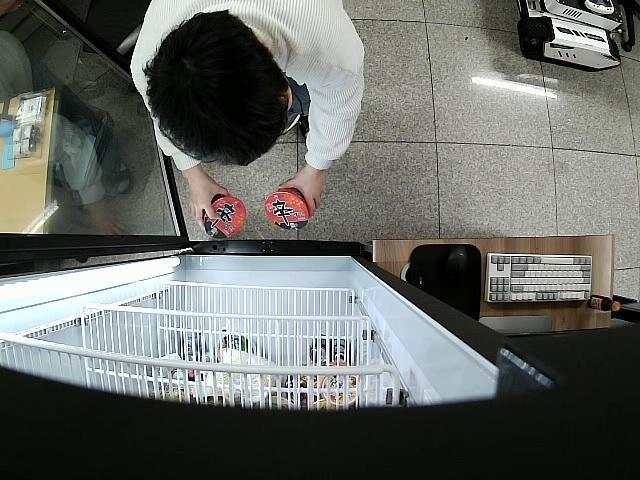01_ShinRamen_L: (265, 180, 310, 230), (200, 194, 247, 240)
